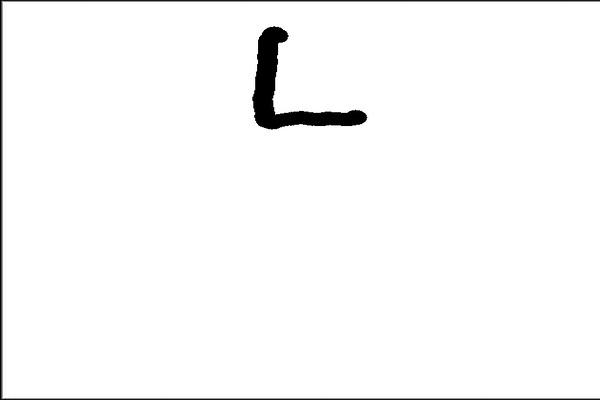L: (247, 19, 375, 133)
